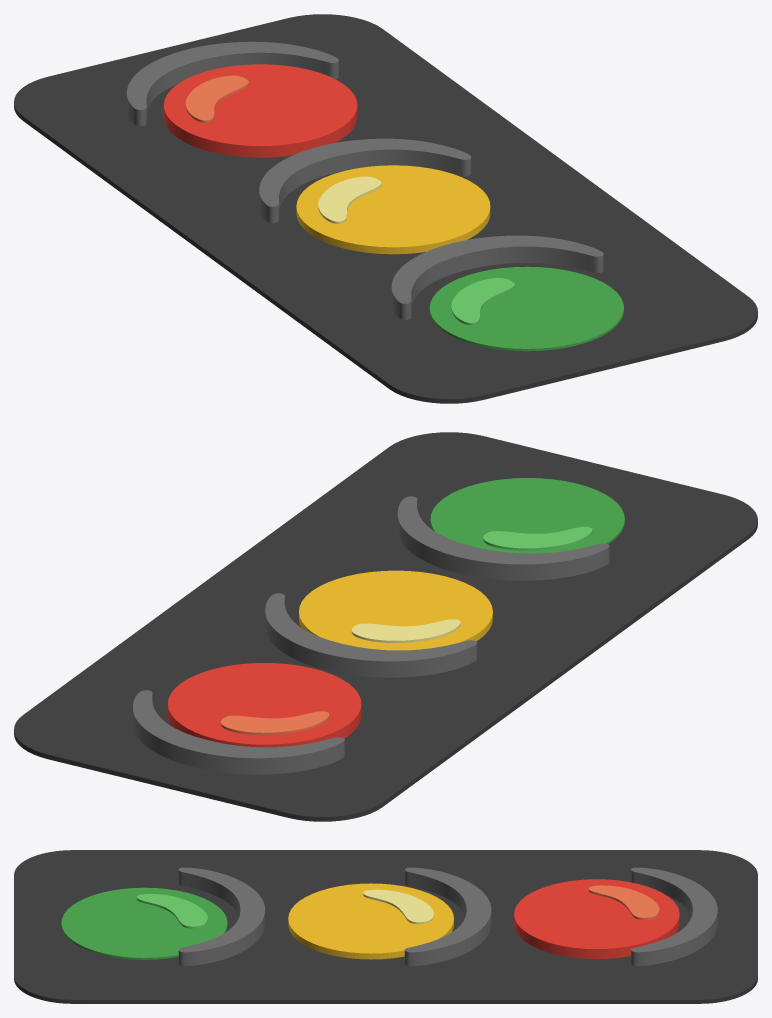
Rendered from emoji_u1f6a6.glb.
3 views of the same model, one above another, from view 1: azimuth 30°, elevation 25°; view 2: azimuth 150°, elevation 25°; view 3: azimuth 270°, elevation 25° (orthographic). The views are drawn at different scales.
Parts seen in each view (by area): view 1: emoji_u1f6a6; view 2: emoji_u1f6a6; view 3: emoji_u1f6a6.
Boxes of the visible parts, x1,y1,x2,y2 form: emoji_u1f6a6: (14, 14, 757, 403); emoji_u1f6a6: (14, 432, 757, 821); emoji_u1f6a6: (14, 850, 757, 1003).
Size of the model in its own units: 0.0161 by 0.0016 by 0.0339.
